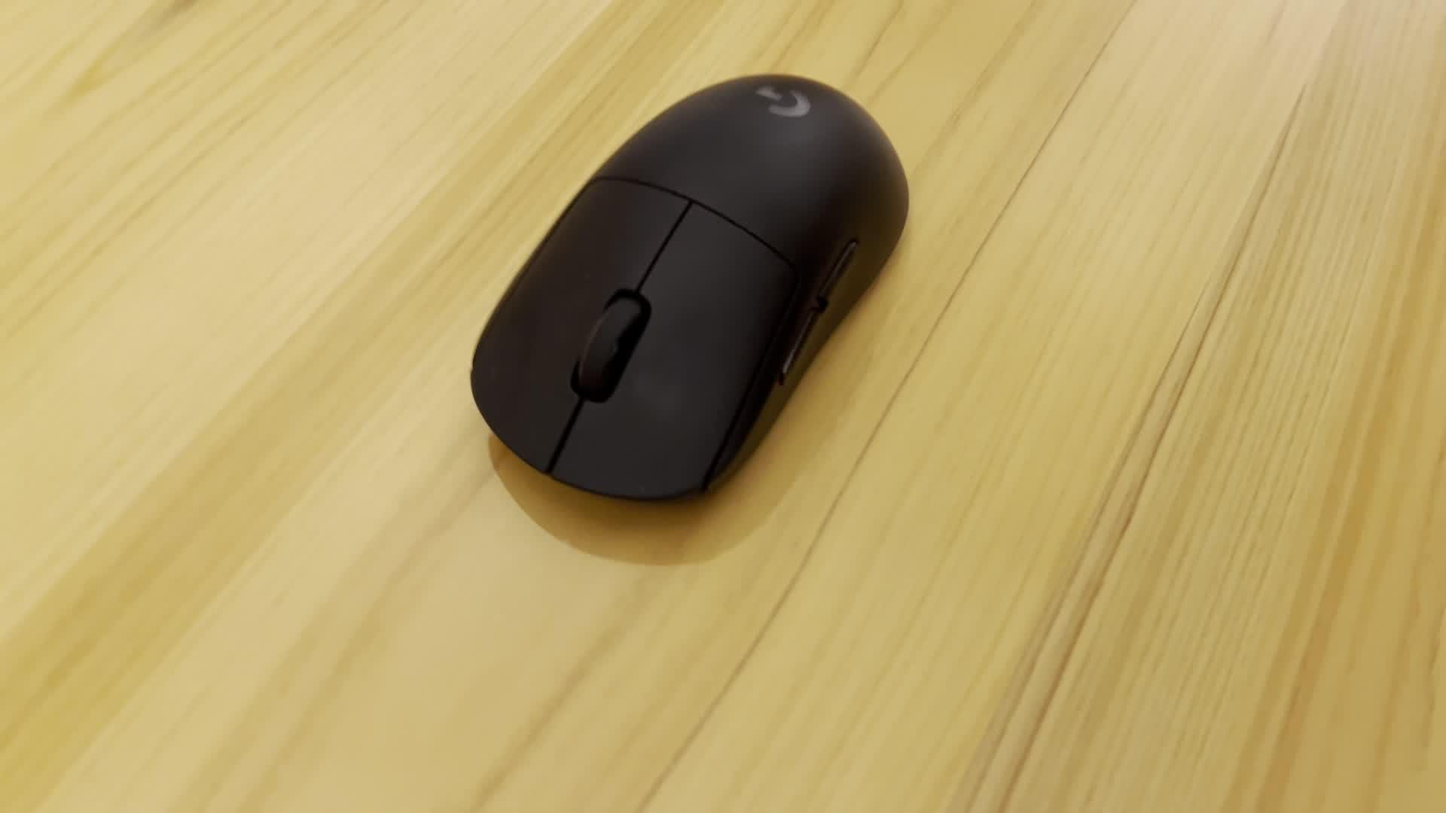mouse: (461, 63, 921, 524)
